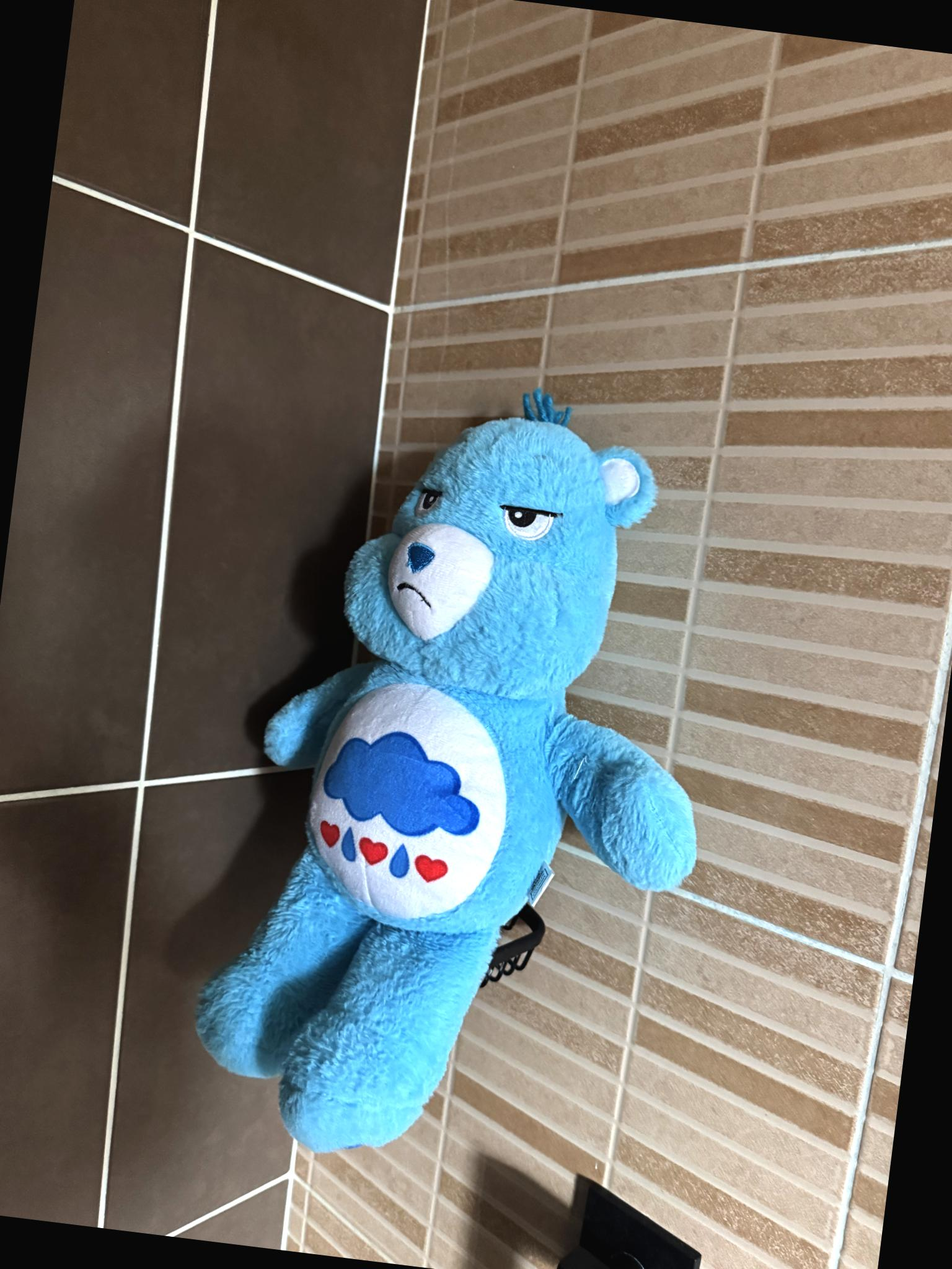peluche_Juan Jose: (264, 394, 668, 1158)
